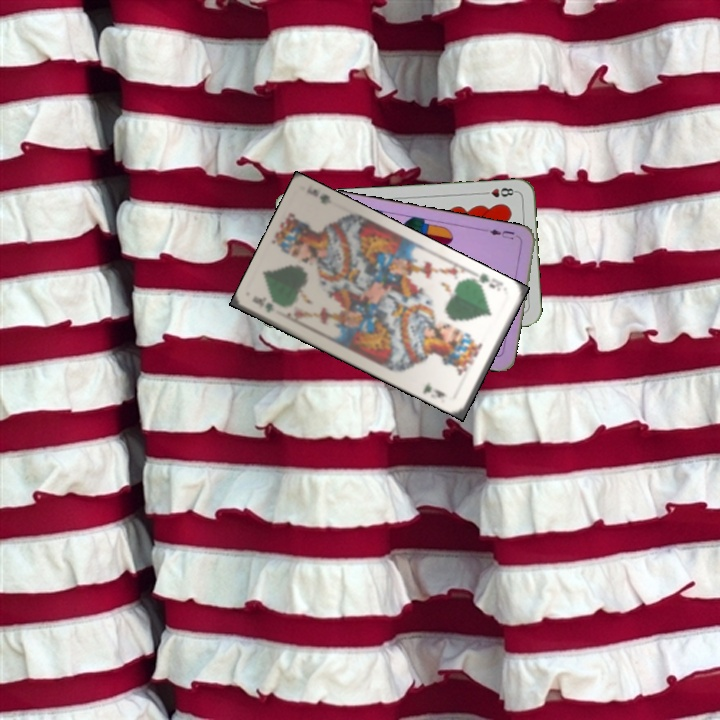EU: (481, 225, 521, 242)
GK: (470, 269, 506, 291), (248, 292, 276, 316)
H8: (478, 184, 519, 200)
